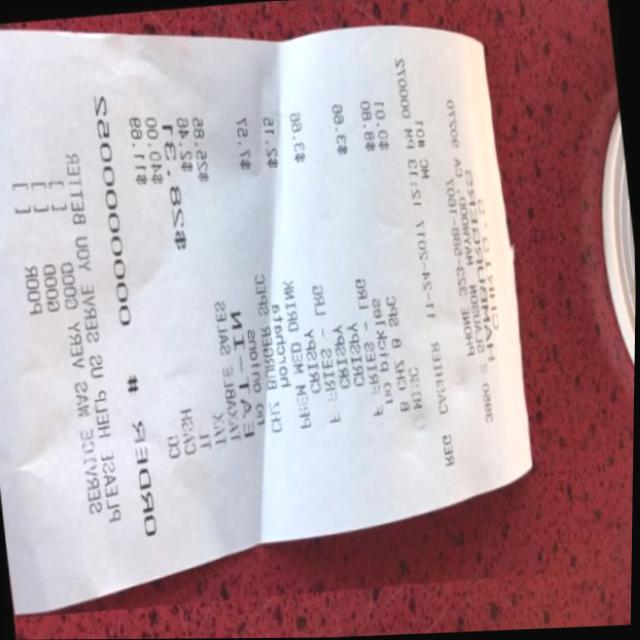Paper: (0, 0, 559, 634)
